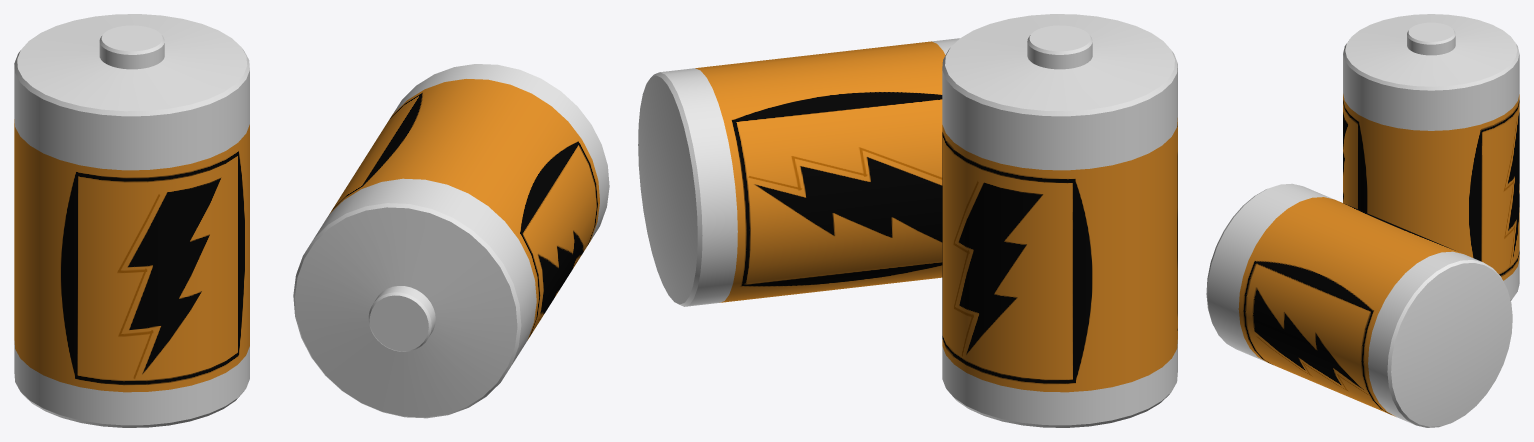
Rendered from batteries.fbx.
3 views of the same model, side by side, from view 1: azimuth 30°, elevation 25°; view 2: azimuth 150°, elevation 25°; view 3: azimuth 270°, elevation 25° (orthographic). The views are drawn at different scales.
Visible parts, largest first — view 1: battery; view 2: battery; view 3: battery.
Boxes of the visible parts, x1,y1,x2,y2 form: battery: (14, 14, 609, 427); battery: (638, 14, 1177, 427); battery: (1206, 14, 1519, 427).
Size of the model in its own units: 54.51 by 32.69 by 35.9.
